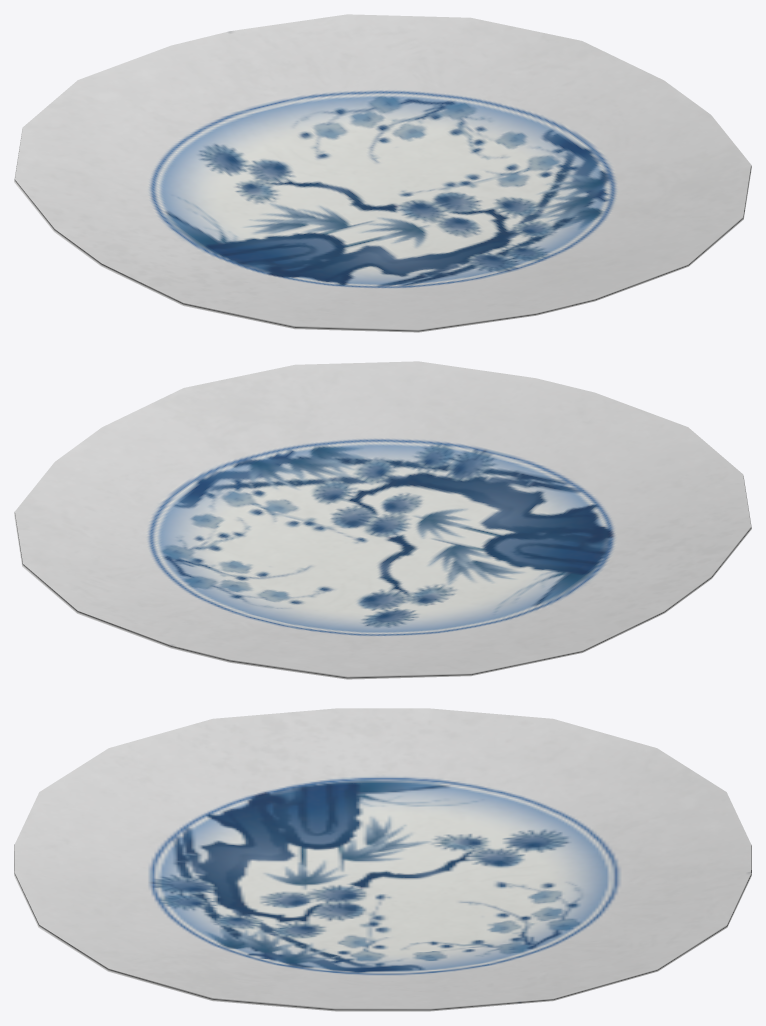
The model's file is jov_porcelain05a.fbx.
3 renders of one model, top to bottom at view 1: azimuth 30°, elevation 25°; view 2: azimuth 150°, elevation 25°; view 3: azimuth 270°, elevation 25°, orthographic.
Visible parts, largest first — view 1: jov_porcelain05a; view 2: jov_porcelain05a; view 3: jov_porcelain05a.
Part boxes in pixels (x1=…): jov_porcelain05a: x1=14, y1=14, x2=751, y2=332; jov_porcelain05a: x1=14, y1=361, x2=751, y2=679; jov_porcelain05a: x1=14, y1=708, x2=751, y2=1011.
Size of the model in its own units: 0.3907 by 0.02 by 0.4053.
